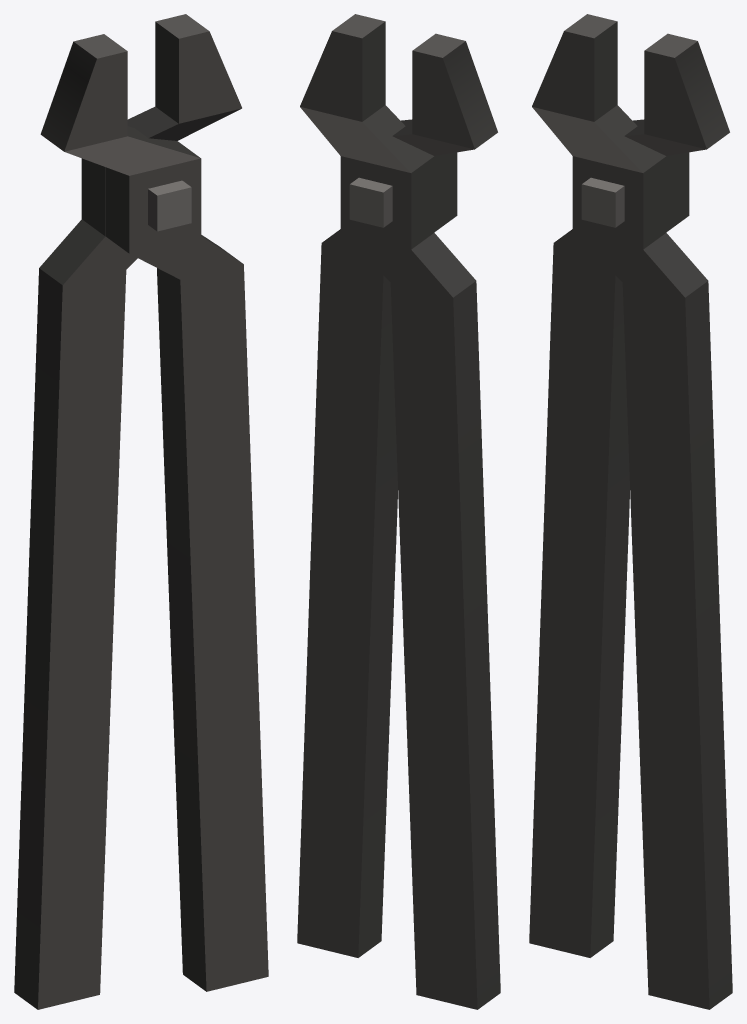
The model's file is SD_Prop_Tool_Plier_03.fbx.
3 views of the same model, side by side, from view 1: azimuth 30°, elevation 25°; view 2: azimuth 150°, elevation 25°; view 3: azimuth 330°, elevation 25° (orthographic).
Visible parts, largest first — view 1: SD_Prop_Tool_Plier_03; view 2: SD_Prop_Tool_Plier_03; view 3: SD_Prop_Tool_Plier_03.
Boxes of the visible parts, x1,y1,x2,y2 form: SD_Prop_Tool_Plier_03: (14, 14, 268, 1009); SD_Prop_Tool_Plier_03: (297, 14, 500, 1009); SD_Prop_Tool_Plier_03: (529, 14, 732, 1009).
Size of the model in its own units: 0.4038 by 1.77 by 0.2223.
